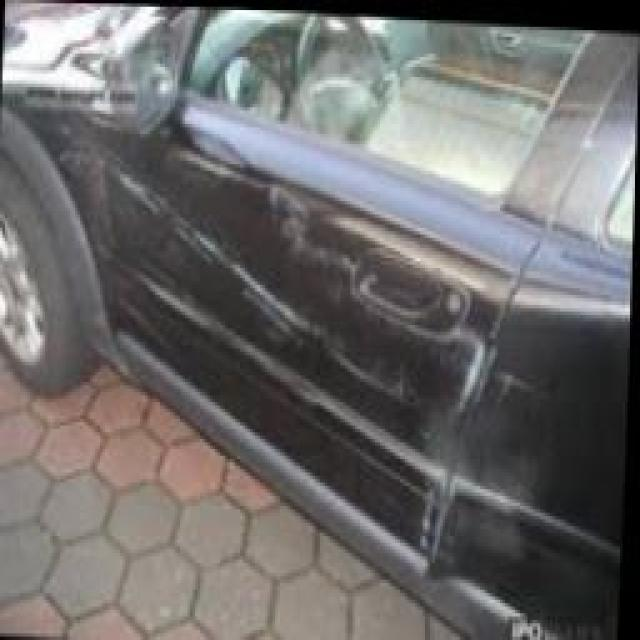Door: (30, 83, 556, 616)
